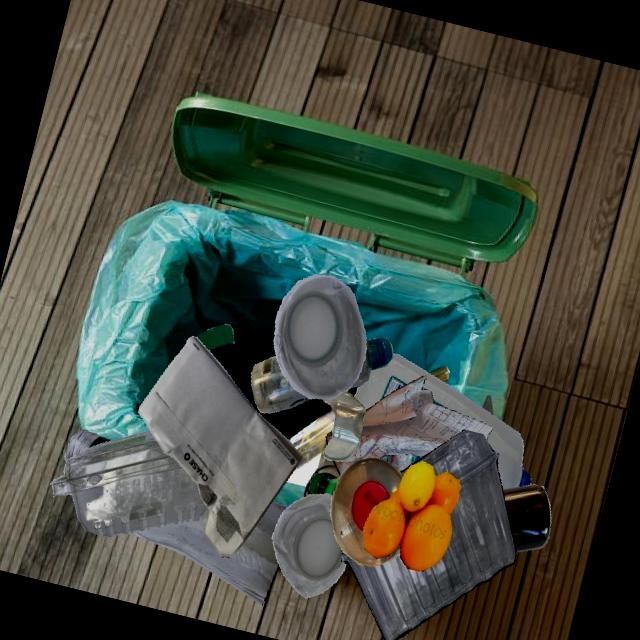biowaste: (363, 461, 460, 571)
glass: (134, 500, 287, 604), (332, 372, 428, 430), (285, 409, 335, 487), (502, 484, 551, 552), (321, 390, 365, 461), (302, 440, 341, 497), (428, 366, 450, 384), (481, 395, 493, 415)
paper: (138, 335, 302, 557), (332, 375, 492, 475)
plastic: (341, 429, 515, 640), (354, 353, 530, 489), (49, 430, 208, 538), (273, 274, 366, 398), (329, 457, 402, 566), (271, 493, 346, 598), (251, 356, 311, 413), (349, 338, 392, 388), (196, 323, 234, 350), (306, 471, 339, 496), (379, 453, 412, 472)
